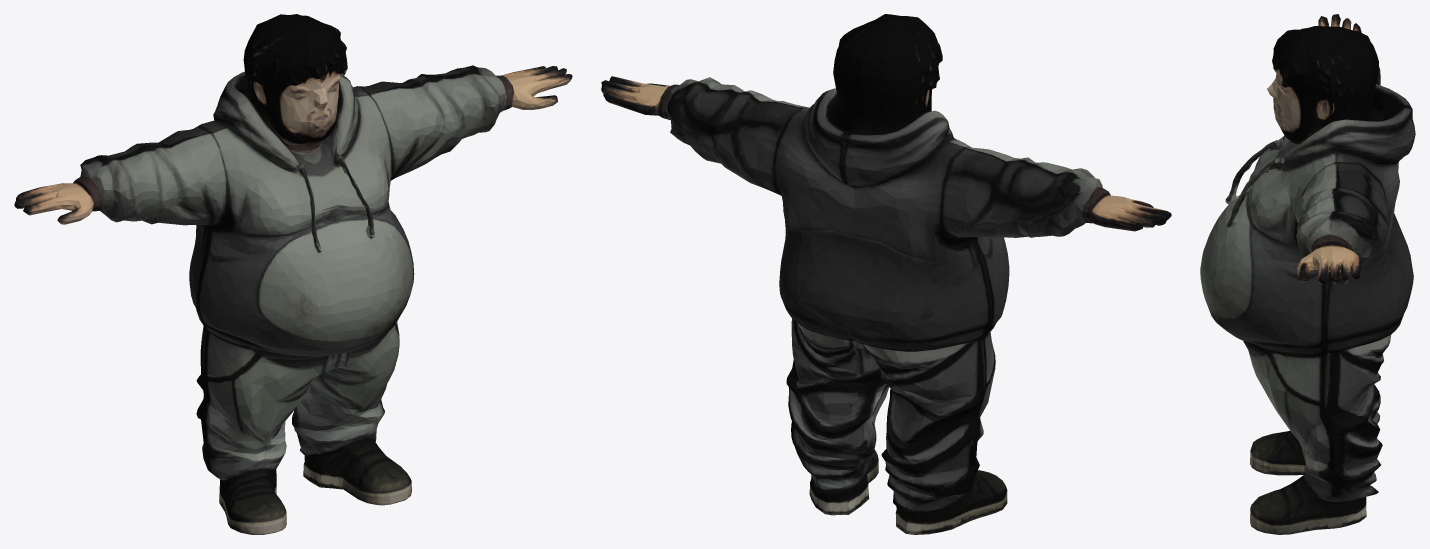
The model's file is lazy_t.glb.
3 views of the same model, side by side, from view 1: azimuth 30°, elevation 25°; view 2: azimuth 150°, elevation 25°; view 3: azimuth 270°, elevation 25° (orthographic). The views are drawn at different scales.
Visible parts, largest first — view 1: world; view 2: world; view 3: world.
Part boxes in pixels (x1,y1,x2,y2): world: (14, 14, 572, 534); world: (601, 14, 1171, 534); world: (1200, 14, 1415, 534).
Bounding box in the file's own units: 0.9925 × 0.8179 × 0.3396.
Materials: 1 (1 with a texture image).
